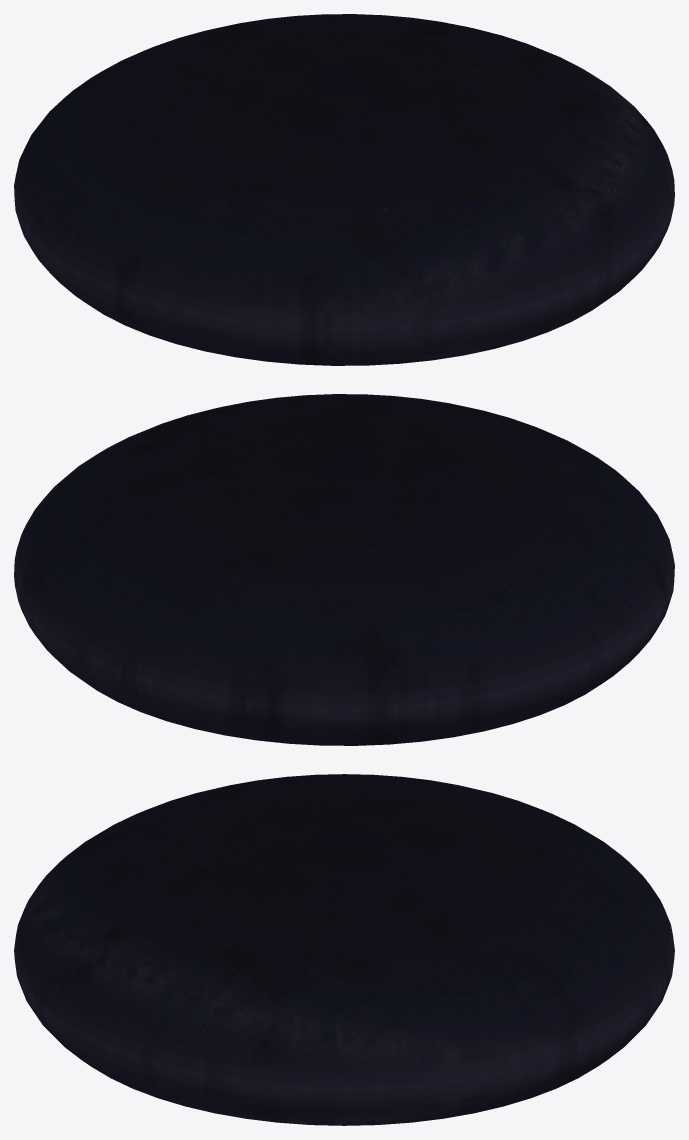
Rendered from manor_sky_v2.glb.
3 renders of one model, top to bottom at view 1: azimuth 30°, elevation 25°; view 2: azimuth 150°, elevation 25°; view 3: azimuth 270°, elevation 25°, orthographic.
Parts seen in each view (by area): view 1: manor_sky; view 2: manor_sky; view 3: manor_sky.
Boxes of the visible parts, x1,y1,x2,y2 form: manor_sky: (14,14,674,365); manor_sky: (14,394,674,745); manor_sky: (14,774,674,1125).
Size of the model in its own units: 460 by 121 by 460.
Materials: 6 (6 with a texture image).
